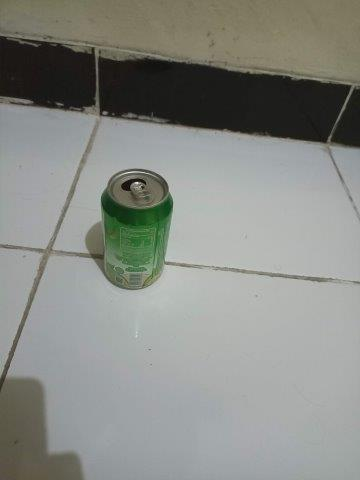kaleng: (101, 169, 173, 290)
